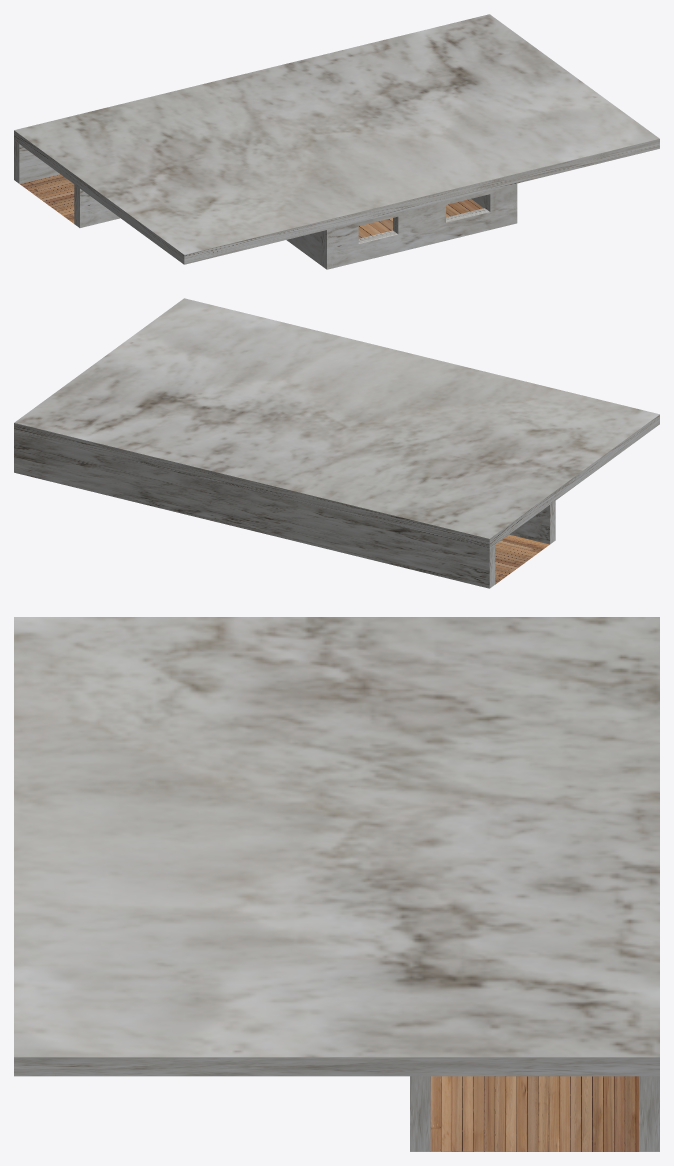
File: Kyoshitsu_part1.fbx
The picture shows the model from 3 angles, top to bottom: view 1: azimuth 30°, elevation 25°; view 2: azimuth 150°, elevation 25°; view 3: azimuth 270°, elevation 25°; orthographic projection. The views are drawn at different scales.
Parts seen in each view (by area): view 1: pCube16, pCube3, pPlane2, pCube8, pCube9, pPlane1, pCube2; view 2: pCube16, pCube9, pPlane2, pCube8; view 3: pCube16, pPlane2, pCube9, pCube7.
Part boxes in pixels (x1,y1,x2,y2): pCube16: (14,14,659,264); pCube3: (321,184,517,269); pPlane2: (20,174,74,223); pCube8: (74,184,120,227); pCube9: (14,140,59,183); pPlane1: (358,199,483,238); pCube2: (286,228,336,269); pCube16: (14,298,659,548); pCube9: (14,433,495,588); pPlane2: (495,534,549,584); pCube8: (509,501,555,544); pCube16: (14,617,659,1076); pPlane2: (430,1076,638,1151); pCube9: (639,1076,659,1151); pCube7: (410,1076,430,1151).
Bounding box in the file's own units: 25 × 2.5 × 15.5.
Materials: 2 (2 with a texture image).
